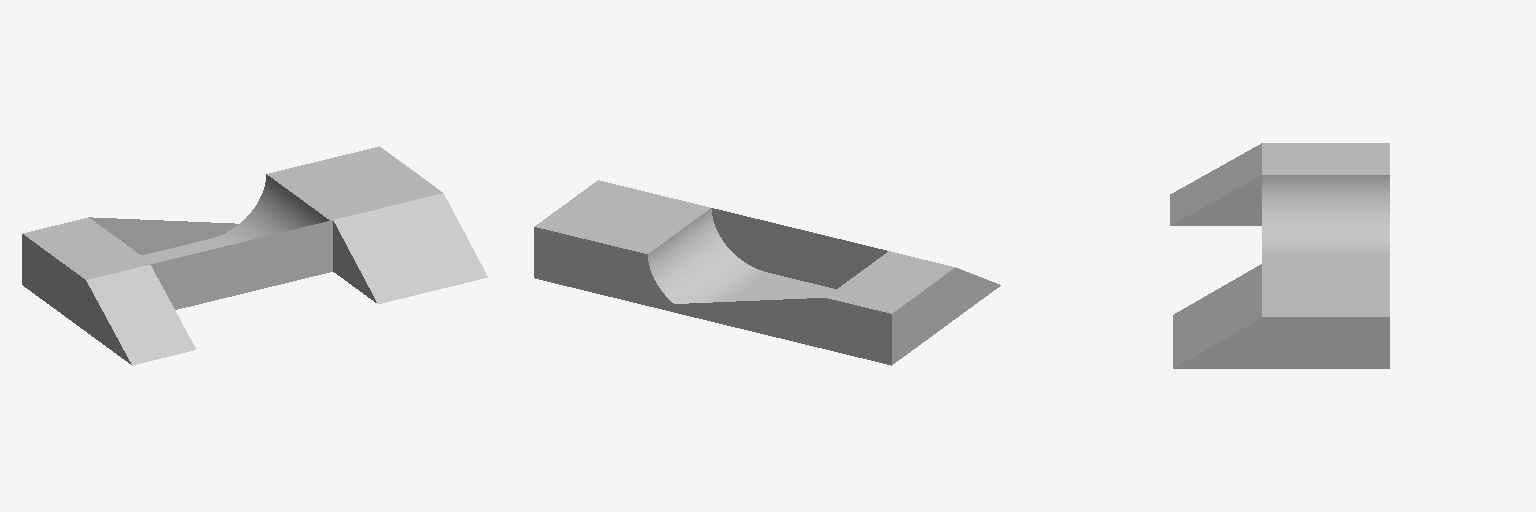
Rendered from MINI.obj.
3 views of the same model, side by side, from view 1: azimuth 30°, elevation 25°; view 2: azimuth 150°, elevation 25°; view 3: azimuth 270°, elevation 25° (orthographic).
Visible parts, largest first — view 1: Cube.004; view 2: Cube.004; view 3: Cube.004.
Part boxes in pixels (x1,y1,x2,y2): Cube.004: (22,146,487,365); Cube.004: (534,180,1000,365); Cube.004: (1170,143,1389,368).
Bounding box in the file's own units: 15.24 × 2.11 × 8.11.